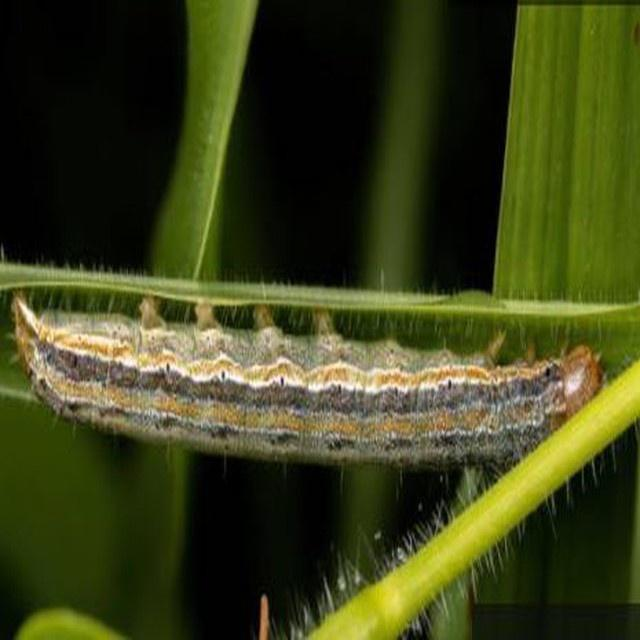gusano_cogollero: (10, 292, 603, 448)
